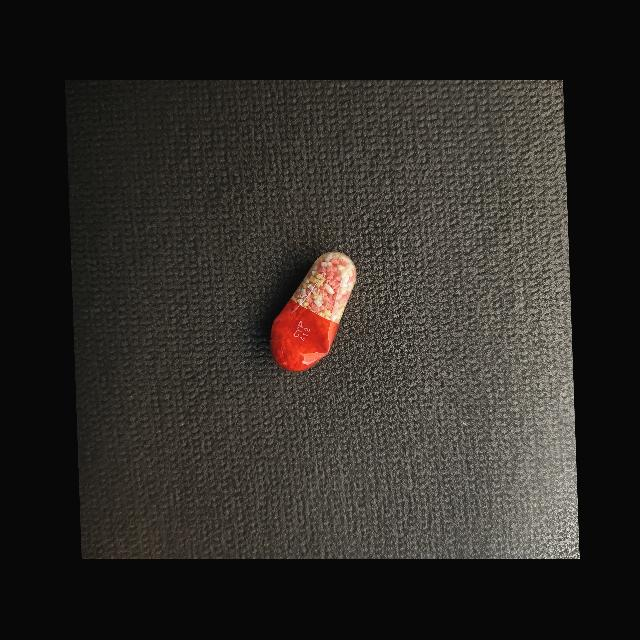Defective Capsule: (270, 252, 357, 372)
